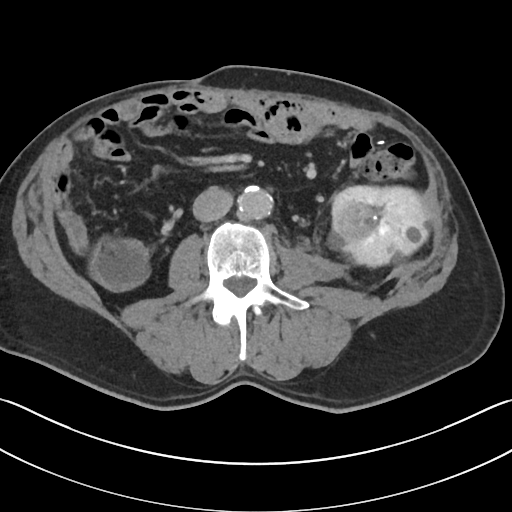Lesion: (336, 198, 385, 245)
